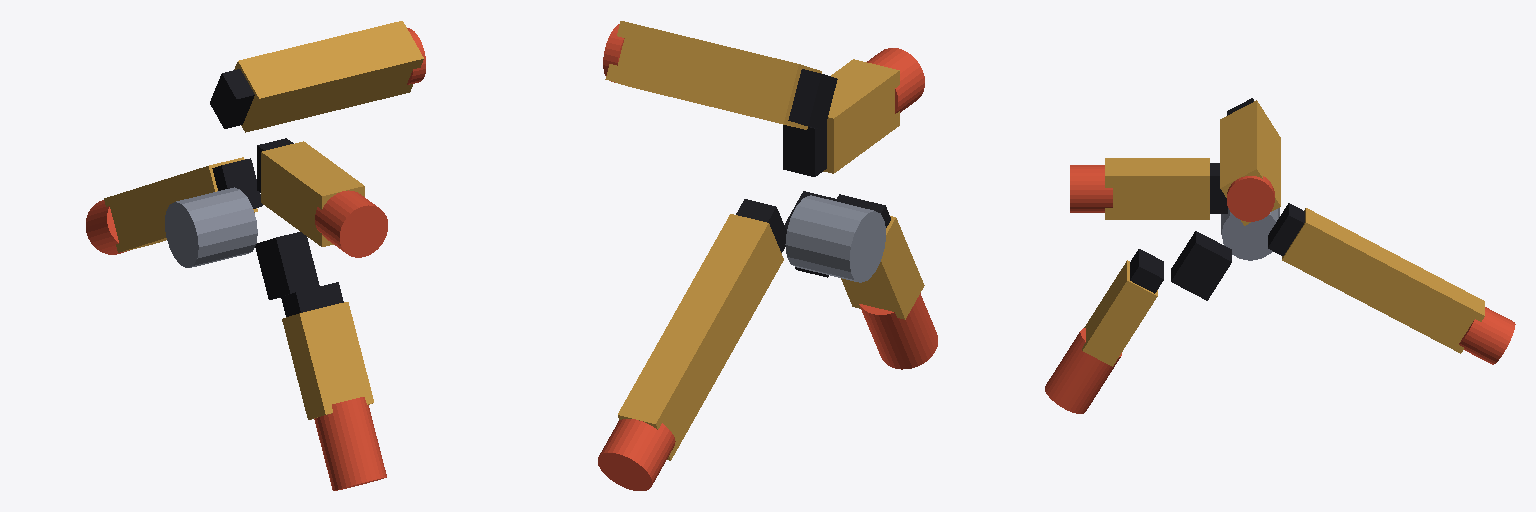
robot.urdf — g0062_c14:
<robot name="g0062_c14">
  <link name="palm">
    <visual name="palm_palm1">
      <origin xyz="0 0 0" rpy="0 0 0" />
      <geometry>
        <mesh filename="palm_palm1.obj" />
      </geometry>
      <material name="palm_palm1_mat">
        <color rgba="0.55 0.57 0.62 1" />
      </material>
    </visual>
    <collision>
      <origin xyz="0 0 0" rpy="0 0 0" />
      <geometry>
        <mesh filename="palm_palm1.obj" />
      </geometry>
    </collision>
    <visual name="palm_mount2">
      <origin xyz="0 0 0" rpy="0 0 0" />
      <geometry>
        <mesh filename="palm_mount2.obj" />
      </geometry>
      <material name="palm_mount2_mat">
        <color rgba="0.55 0.57 0.62 1" />
      </material>
    </visual>
    <collision>
      <origin xyz="0 0 0" rpy="0 0 0" />
      <geometry>
        <mesh filename="palm_mount2.obj" />
      </geometry>
    </collision>
    <visual name="palm_hinge3">
      <origin xyz="0 -0.0335705081 -0.0181458256" rpy="1.57079633 -0.523598776 -1.57079633" />
      <geometry>
        <box size="0.029 0.034 0.02" />
      </geometry>
      <material name="palm_hinge3_mat">
        <color rgba="0.15 0.15 0.17 1" />
      </material>
    </visual>
    <collision>
      <origin xyz="0 -0.0335705081 -0.0181458256" rpy="1.57079633 -0.523598776 -1.57079633" />
      <geometry>
        <box size="0.029 0.034 0.02" />
      </geometry>
    </collision>
    <visual name="palm_motor4">
      <origin xyz="0 -0.0325 0.04" rpy="-0 -1.57079633 0" />
      <geometry>
        <box size="0.029 0.034 0.02" />
      </geometry>
      <material name="palm_motor4_mat">
        <color rgba="0.15 0.15 0.17 1" />
      </material>
    </visual>
    <collision>
      <origin xyz="0 -0.0325 0.04" rpy="-0 -1.57079633 0" />
      <geometry>
        <box size="0.029 0.034 0.02" />
      </geometry>
    </collision>
    <visual name="palm_motor5">
      <origin xyz="-0.007 2.29621275e-19 0.08" rpy="-1.06057524e-16 1.04719755 1.57079633" />
      <geometry>
        <box size="0.029 0.034 0.02" />
      </geometry>
      <material name="palm_motor5_mat">
        <color rgba="0.15 0.15 0.17 1" />
      </material>
    </visual>
    <collision>
      <origin xyz="-0.007 2.29621275e-19 0.08" rpy="-1.06057524e-16 1.04719755 1.57079633" />
      <geometry>
        <box size="0.029 0.034 0.02" />
      </geometry>
    </collision>
    <visual name="palm_motor6">
      <origin xyz="0 0.0335048095 0.00375" rpy="1.57079633 1.04719755 -1.57079633" />
      <geometry>
        <box size="0.029 0.034 0.02" />
      </geometry>
      <material name="palm_motor6_mat">
        <color rgba="0.15 0.15 0.17 1" />
      </material>
    </visual>
    <collision>
      <origin xyz="0 0.0335048095 0.00375" rpy="1.57079633 1.04719755 -1.57079633" />
      <geometry>
        <box size="0.029 0.034 0.02" />
      </geometry>
    </collision>
    <inertial>
      <origin xyz="2.737308e-19 -0.00742817708 0.0242811353" rpy="1.57079633 1.104476 1.57079633" />
      <mass value="0.451266858" />
      <inertia ixx="0.000395735004" ixy="0" ixz="0" iyy="0.000455675239" iyz="0" izz="0.000808088624" />
    </inertial>
  </link>
  <link name="palm0">
    <visual name="palm0_palm1">
      <origin xyz="0 0 0" rpy="0 0 0" />
      <geometry>
        <mesh filename="palm0_palm1.obj" />
      </geometry>
      <material name="palm0_palm1_mat">
        <color rgba="0.55 0.57 0.62 1" />
      </material>
    </visual>
    <collision>
      <origin xyz="0 0 0" rpy="0 0 0" />
      <geometry>
        <mesh filename="palm0_palm1.obj" />
      </geometry>
    </collision>
    <visual name="palm0_motor2">
      <origin xyz="-0.0045 -0.0389294919 -0.00886379332" rpy="1.04719755 -3.061617e-17 -5.30287619e-17" />
      <geometry>
        <box size="0.029 0.034 0.02" />
      </geometry>
      <material name="palm0_motor2_mat">
        <color rgba="0.15 0.15 0.17 1" />
      </material>
    </visual>
    <collision>
      <origin xyz="-0.0045 -0.0389294919 -0.00886379332" rpy="1.04719755 -3.061617e-17 -5.30287619e-17" />
      <geometry>
        <box size="0.029 0.034 0.02" />
      </geometry>
    </collision>
    <inertial>
      <origin xyz="0 -0.027162096 -0.00954124528" rpy="1.57079633 0.125652653 1.57079633" />
      <mass value="0.0818764337" />
      <inertia ixx="1.29420533e-05" ixy="0" ixz="0" iyy="2.62226886e-05" iyz="0" izz="3.13046043e-05" />
    </inertial>
  </link>
  <link name="f0_link0">
    <visual name="f0_link0_link1">
      <origin xyz="0.01875 0 -1.38777878e-17" rpy="0 4.06369831e-17 0" />
      <geometry>
        <box size="0.0615 0.033 0.024" />
      </geometry>
      <material name="f0_link0_link1_mat">
        <color rgba="0.80 0.62 0.30 1" />
      </material>
    </visual>
    <collision>
      <origin xyz="0.01875 0 -1.38777878e-17" rpy="0 4.06369831e-17 0" />
      <geometry>
        <box size="0.0615 0.033 0.024" />
      </geometry>
    </collision>
    <inertial>
      <origin xyz="0.01875 0 0" rpy="0 0 0" />
      <mass value="0.085239" />
      <inertia ixx="1.18269113e-05" ixy="0" ixz="0" iyy="3.09577393e-05" iyz="0" izz="3.46017066e-05" />
    </inertial>
  </link>
  <link name="f0_link1">
    <visual name="f0_link1_link1">
      <origin xyz="0.029 0 -6.9388939e-18" rpy="-1.57079633 -0 -1.57079633" />
      <geometry>
        <cylinder radius="0.0165" length="0.049" />
      </geometry>
      <material name="f0_link1_link1_mat">
        <color rgba="0.85 0.35 0.25 1" />
      </material>
    </visual>
    <collision>
      <origin xyz="0.029 0 -6.9388939e-18" rpy="-1.57079633 -0 -1.57079633" />
      <geometry>
        <cylinder radius="0.0165" length="0.049" />
      </geometry>
    </collision>
    <inertial>
      <origin xyz="0.029 0 0" rpy="0 0 0" />
      <mass value="0.106270851" />
      <inertia ixx="1.35696277e-05" ixy="0" ixz="0" iyy="5.30015704e-05" iyz="0" izz="5.30015704e-05" />
    </inertial>
  </link>
  <link name="f1_link0">
    <visual name="f1_link0_link1">
      <origin xyz="0.02375 0 0" rpy="0 -0 0" />
      <geometry>
        <box size="0.0715 0.029 0.033" />
      </geometry>
      <material name="f1_link0_link1_mat">
        <color rgba="0.80 0.62 0.30 1" />
      </material>
    </visual>
    <collision>
      <origin xyz="0.02375 0 0" rpy="0 -0 0" />
      <geometry>
        <box size="0.0715 0.029 0.033" />
      </geometry>
    </collision>
    <inertial>
      <origin xyz="0.02375 0 0" rpy="0 0 0" />
      <mass value="0.119744625" />
      <inertia ixx="1.92589272e-05" ixy="0" ixz="0" iyy="6.18805296e-05" iyz="0" izz="5.94058074e-05" />
    </inertial>
  </link>
  <link name="f1_link1">
    <visual name="f1_link1_link1">
      <origin xyz="0.019 0 3.46944695e-18" rpy="-1.57079633 -0 -1.57079633" />
      <geometry>
        <cylinder radius="0.0165" length="0.029" />
      </geometry>
      <material name="f1_link1_link1_mat">
        <color rgba="0.85 0.35 0.25 1" />
      </material>
    </visual>
    <collision>
      <origin xyz="0.019 0 3.46944695e-18" rpy="-1.57079633 -0 -1.57079633" />
      <geometry>
        <cylinder radius="0.0165" length="0.029" />
      </geometry>
    </collision>
    <inertial>
      <origin xyz="0.019 0 0" rpy="0 0 0" />
      <mass value="0.0763354" />
      <inertia ixx="9.49466441e-06" ixy="0" ixz="0" iyy="2.24143997e-05" iyz="0" izz="2.24143997e-05" />
    </inertial>
  </link>
  <link name="f2_link0">
    <visual name="f2_link0_link1">
      <origin xyz="0.04375 1.38777878e-17 0" rpy="3.98552134e-18 1.1024023e-33 1.87768018e-33" />
      <geometry>
        <box size="0.1115 0.033 0.029" />
      </geometry>
      <material name="f2_link0_link1_mat">
        <color rgba="0.80 0.62 0.30 1" />
      </material>
    </visual>
    <collision>
      <origin xyz="0.04375 1.38777878e-17 0" rpy="3.98552134e-18 1.1024023e-33 1.87768018e-33" />
      <geometry>
        <box size="0.1115 0.033 0.029" />
      </geometry>
    </collision>
    <inertial>
      <origin xyz="0.04375 0 0" rpy="0 0 0" />
      <mass value="0.186734625" />
      <inertia ixx="3.00331522e-05" ixy="0" ixz="0" iyy="0.000206547947" iyz="0" izz="0.000210407129" />
    </inertial>
  </link>
  <link name="f2_link1">
    <visual name="f2_link1_link1">
      <origin xyz="0.009 1.38777878e-17 -6.9388939e-18" rpy="-1.57079633 -0 -1.57079633" />
      <geometry>
        <cylinder radius="0.0165" length="0.009" />
      </geometry>
      <material name="f2_link1_link1_mat">
        <color rgba="0.85 0.35 0.25 1" />
      </material>
    </visual>
    <collision>
      <origin xyz="0.009 1.38777878e-17 -6.9388939e-18" rpy="-1.57079633 -0 -1.57079633" />
      <geometry>
        <cylinder radius="0.0165" length="0.009" />
      </geometry>
    </collision>
    <inertial>
      <origin xyz="0.009 0 0" rpy="0 0 0" />
      <mass value="0.046399949" />
      <inertia ixx="5.41970115e-06" ixy="0" ixz="0" iyy="7.09430898e-06" iyz="0" izz="7.09430898e-06" />
    </inertial>
  </link>
  <link name="f3_link0">
    <visual name="f3_link0_link1">
      <origin xyz="0.02375 0 -3.46944695e-18" rpy="0 2.57628149e-17 0" />
      <geometry>
        <box size="0.0715 0.024 0.033" />
      </geometry>
      <material name="f3_link0_link1_mat">
        <color rgba="0.80 0.62 0.30 1" />
      </material>
    </visual>
    <collision>
      <origin xyz="0.02375 0 -3.46944695e-18" rpy="0 2.57628149e-17 0" />
      <geometry>
        <box size="0.0715 0.024 0.033" />
      </geometry>
    </collision>
    <inertial>
      <origin xyz="0.02375 0 0" rpy="0 0 0" />
      <mass value="0.099099" />
      <inertia ixx="1.37499863e-05" ixy="0" ixz="0" iyy="5.12114728e-05" iyz="0" izz="4.69749906e-05" />
    </inertial>
  </link>
  <link name="f3_link1">
    <visual name="f3_link1_link1">
      <origin xyz="0.03375 0 6.9388939e-18" rpy="0 2.57628149e-17 0" />
      <geometry>
        <box size="0.0915 0.024 0.033" />
      </geometry>
      <material name="f3_link1_link1_mat">
        <color rgba="0.80 0.62 0.30 1" />
      </material>
    </visual>
    <collision>
      <origin xyz="0.03375 0 6.9388939e-18" rpy="0 2.57628149e-17 0" />
      <geometry>
        <box size="0.0915 0.024 0.033" />
      </geometry>
    </collision>
    <inertial>
      <origin xyz="0.03375 0 0" rpy="0 0 0" />
      <mass value="0.126819" />
      <inertia ixx="1.75961363e-05" ixy="0" ixz="0" iyy="9.99888553e-05" iyz="0" izz="9.45673431e-05" />
    </inertial>
  </link>
  <link name="f3_link2">
    <visual name="f3_link2_link1">
      <origin xyz="0.019 0 5.20417043e-18" rpy="-1.57079633 -0 -1.57079633" />
      <geometry>
        <cylinder radius="0.0165" length="0.029" />
      </geometry>
      <material name="f3_link2_link1_mat">
        <color rgba="0.85 0.35 0.25 1" />
      </material>
    </visual>
    <collision>
      <origin xyz="0.019 0 5.20417043e-18" rpy="-1.57079633 -0 -1.57079633" />
      <geometry>
        <cylinder radius="0.0165" length="0.029" />
      </geometry>
    </collision>
    <inertial>
      <origin xyz="0.019 0 0" rpy="0 0 0" />
      <mass value="0.0763354" />
      <inertia ixx="9.49466441e-06" ixy="0" ixz="0" iyy="2.24143997e-05" iyz="0" izz="2.24143997e-05" />
    </inertial>
  </link>
  <joint name="palm0_joint" type="revolute">
    <parent link="palm" />
    <child link="palm0" />
    <origin xyz="0 -0.0373205081 -0.0246410162" rpy="0 0 0" />
    <axis xyz="0 -0.866025404 0.5" />
    <limit effort="0.5" lower="-0.523598776" upper="0.523598776" velocity="5" />
    <dynamics damping="0.0775033" friction="0" />
  </joint>
  <joint name="f0_j0" type="revolute">
    <parent link="palm0" />
    <child link="f0_link0" />
    <origin xyz="-0.0045 -0.0426794919 -0.0153589838" rpy="0 1.04719755 -1.57079633" />
    <axis xyz="0 1 6.123234e-17" />
    <limit effort="0.5" lower="-0.523598776" upper="0.523598776" velocity="5" />
    <dynamics damping="0.0775033" friction="0" />
  </joint>
  <joint name="f0_j1" type="revolute">
    <parent link="f0_link0" />
    <child link="f0_link1" />
    <origin xyz="0.04 0 0" rpy="0 0 0" />
    <axis xyz="0 1 6.123234e-17" />
    <limit effort="0.5" lower="-0.523598776" upper="0.523598776" velocity="5" />
    <dynamics damping="0.0775033" friction="0" />
  </joint>
  <joint name="f1_j0" type="revolute">
    <parent link="palm" />
    <child link="f1_link0" />
    <origin xyz="0 -0.04 0.04" rpy="0 1.8369702e-16 -1.57079633" />
    <axis xyz="0 0 1" />
    <limit effort="0.5" lower="-0.523598776" upper="1.57079633" velocity="5" />
    <dynamics damping="0.0775033" friction="0" />
  </joint>
  <joint name="f1_j1" type="revolute">
    <parent link="f1_link0" />
    <child link="f1_link1" />
    <origin xyz="0.05 0 0" rpy="0 0 0" />
    <axis xyz="-0 -1 -6.123234e-17" />
    <limit effort="0.5" lower="-0.523598776" upper="0.523598776" velocity="5" />
    <dynamics damping="0.0775033" friction="0" />
  </joint>
  <joint name="f2_j0" type="revolute">
    <parent link="palm" />
    <child link="f2_link0" />
    <origin xyz="0.0005 0 0.08" rpy="-1.04719755 -5.30287619e-17 -3.061617e-17" />
    <axis xyz="-0 -1 -6.123234e-17" />
    <limit effort="0.5" lower="-0.523598776" upper="0.523598776" velocity="5" />
    <dynamics damping="0.0775033" friction="0" />
  </joint>
  <joint name="f2_j1" type="revolute">
    <parent link="f2_link0" />
    <child link="f2_link1" />
    <origin xyz="0.09 0 0" rpy="0 0 0" />
    <axis xyz="0 0 1" />
    <limit effort="0.5" lower="-0.523598776" upper="1.57079633" velocity="5" />
    <dynamics damping="0.0775033" friction="0" />
  </joint>
  <joint name="f3_j0" type="revolute">
    <parent link="palm" />
    <child link="f3_link0" />
    <origin xyz="0 0.04 0" rpy="3.14159265 0.523598776 1.57079633" />
    <axis xyz="0 0 1" />
    <limit effort="0.5" lower="-0.523598776" upper="1.57079633" velocity="5" />
    <dynamics damping="0.0775033" friction="0" />
  </joint>
  <joint name="f3_j1" type="revolute">
    <parent link="f3_link0" />
    <child link="f3_link1" />
    <origin xyz="0.05 0 0" rpy="0 0 0" />
    <axis xyz="0 0 1" />
    <limit effort="0.5" lower="-0.523598776" upper="1.57079633" velocity="5" />
    <dynamics damping="0.0775033" friction="0" />
  </joint>
  <joint name="f3_j2" type="revolute">
    <parent link="f3_link1" />
    <child link="f3_link2" />
    <origin xyz="0.07 0 0" rpy="0 0 0" />
    <axis xyz="0 0 1" />
    <limit effort="0.5" lower="-0.523598776" upper="1.57079633" velocity="5" />
    <dynamics damping="0.0775033" friction="0" />
  </joint>
</robot>

--- Render facts (derived) ---
3 views of the same robot in one strip: view 1: azimuth 30°, elevation 25°; view 2: azimuth 150°, elevation 25°; view 3: azimuth 270°, elevation 25° (orthographic).
Model g0062_c14 with 11 links and 10 joints (10 revolute), rooted at palm, posed every joint at zero.
Visible links, largest first — view 1: f2_link0, palm, f0_link0, f1_link0, f0_link1, f1_link1, f3_link1, f3_link2, palm0, f3_link0; view 2: palm, f2_link0, f3_link1, f3_link0, f1_link0, f3_link2, f0_link0, f0_link1, f1_link1, f2_link1; view 3: palm, f1_link0, f3_link1, f3_link0, f2_link0, f0_link0, f0_link1, f3_link2, f1_link1, f2_link1, palm0.
Link boxes in pixels (x1,y1,x2,y2): f2_link0: [234, 21, 423, 132]; palm: [165, 69, 319, 299]; f0_link0: [282, 302, 373, 419]; f1_link0: [261, 141, 364, 246]; f0_link1: [314, 397, 386, 490]; f1_link1: [315, 190, 387, 257]; f3_link1: [104, 177, 177, 252]; f3_link2: [86, 200, 129, 254]; palm0: [281, 282, 343, 316]; f3_link0: [172, 157, 257, 212]; palm: [736, 69, 885, 282]; f2_link0: [605, 21, 821, 129]; f3_link1: [618, 285, 743, 460]; f3_link0: [674, 214, 783, 359]; f1_link0: [823, 59, 899, 173]; f3_link2: [598, 419, 675, 490]; f0_link0: [841, 216, 924, 319]; f0_link1: [859, 293, 937, 369]; f1_link1: [867, 48, 924, 113]; f2_link1: [603, 24, 624, 82]; palm: [1171, 98, 1304, 300]; f1_link0: [1105, 158, 1209, 219]; f3_link1: [1369, 241, 1484, 353]; f3_link0: [1282, 208, 1395, 306]; f2_link0: [1220, 100, 1280, 225]; f0_link0: [1082, 260, 1157, 366]; f0_link1: [1045, 328, 1121, 413]; f3_link2: [1459, 307, 1515, 364]; f1_link1: [1070, 165, 1112, 212]; f2_link1: [1227, 176, 1274, 221]; palm0: [1130, 249, 1163, 293].
Size in the robot's own frame: 0.156 by 0.3222 by 0.2308 metres.
1 mesh visuals loaded from 3 distinct referenced files (1 OBJ); not drawn: 2 (reference not matched to a file when rendering).
